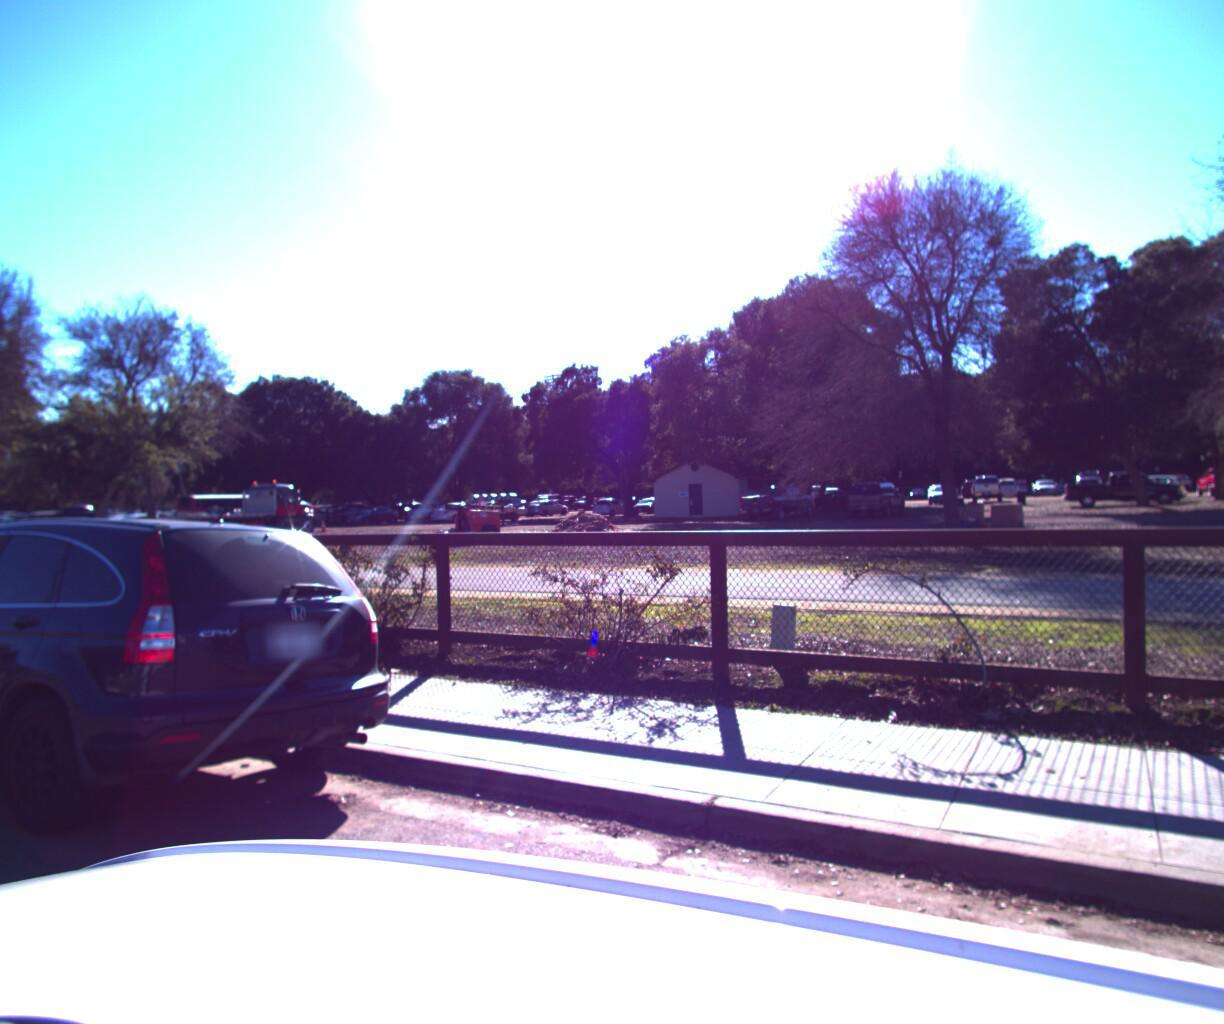car: (0, 508, 427, 876)
other_vehicle: (0, 349, 42, 745)
